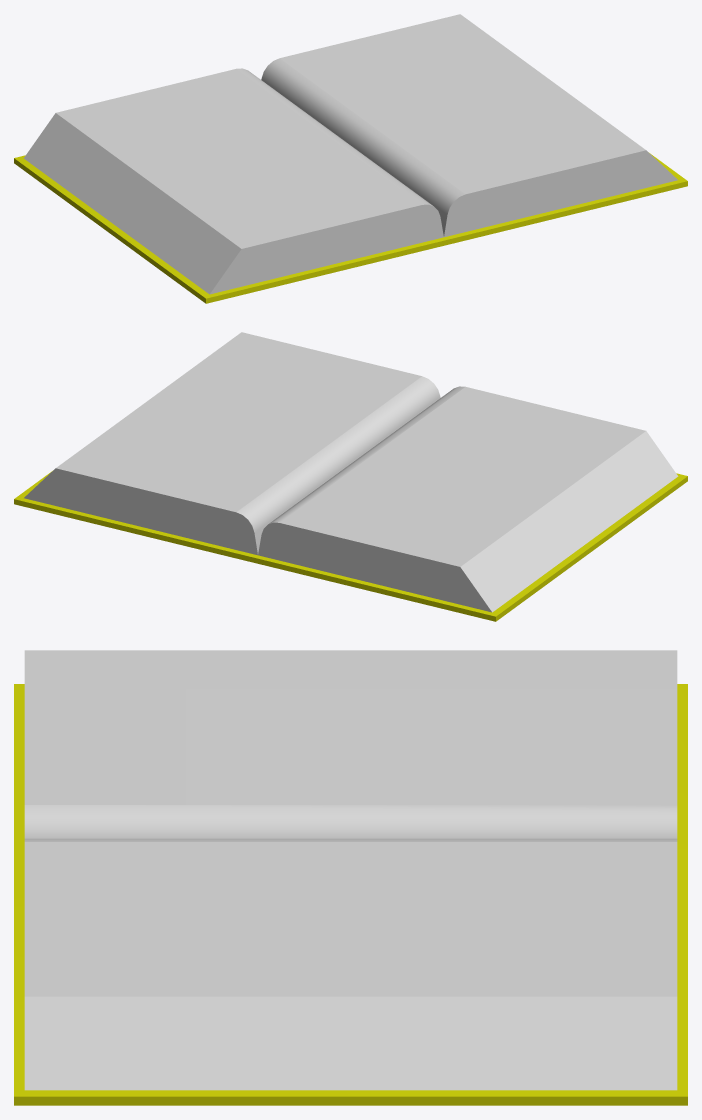
The model's file is Book_Open_Yellow.fbx.
The picture shows the model from 3 angles, top to bottom: view 1: azimuth 30°, elevation 25°; view 2: azimuth 150°, elevation 25°; view 3: azimuth 270°, elevation 25°; orthographic projection. The views are drawn at different scales.
Parts seen in each view (by area): view 1: Book_Open_Yellow; view 2: Book_Open_Yellow; view 3: Book_Open_Yellow.
Boxes of the visible parts, <box> form: Book_Open_Yellow: <box>14,14,687,303</box>; Book_Open_Yellow: <box>14,332,687,621</box>; Book_Open_Yellow: <box>14,650,687,1105</box>.
Bounding box in the file's own units: 39.42 × 3.38 × 27.21.
